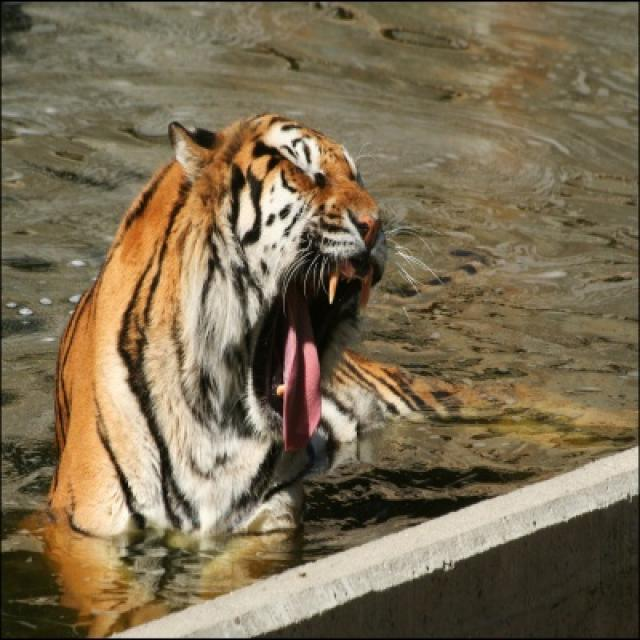Tiger: (48, 117, 626, 512)
